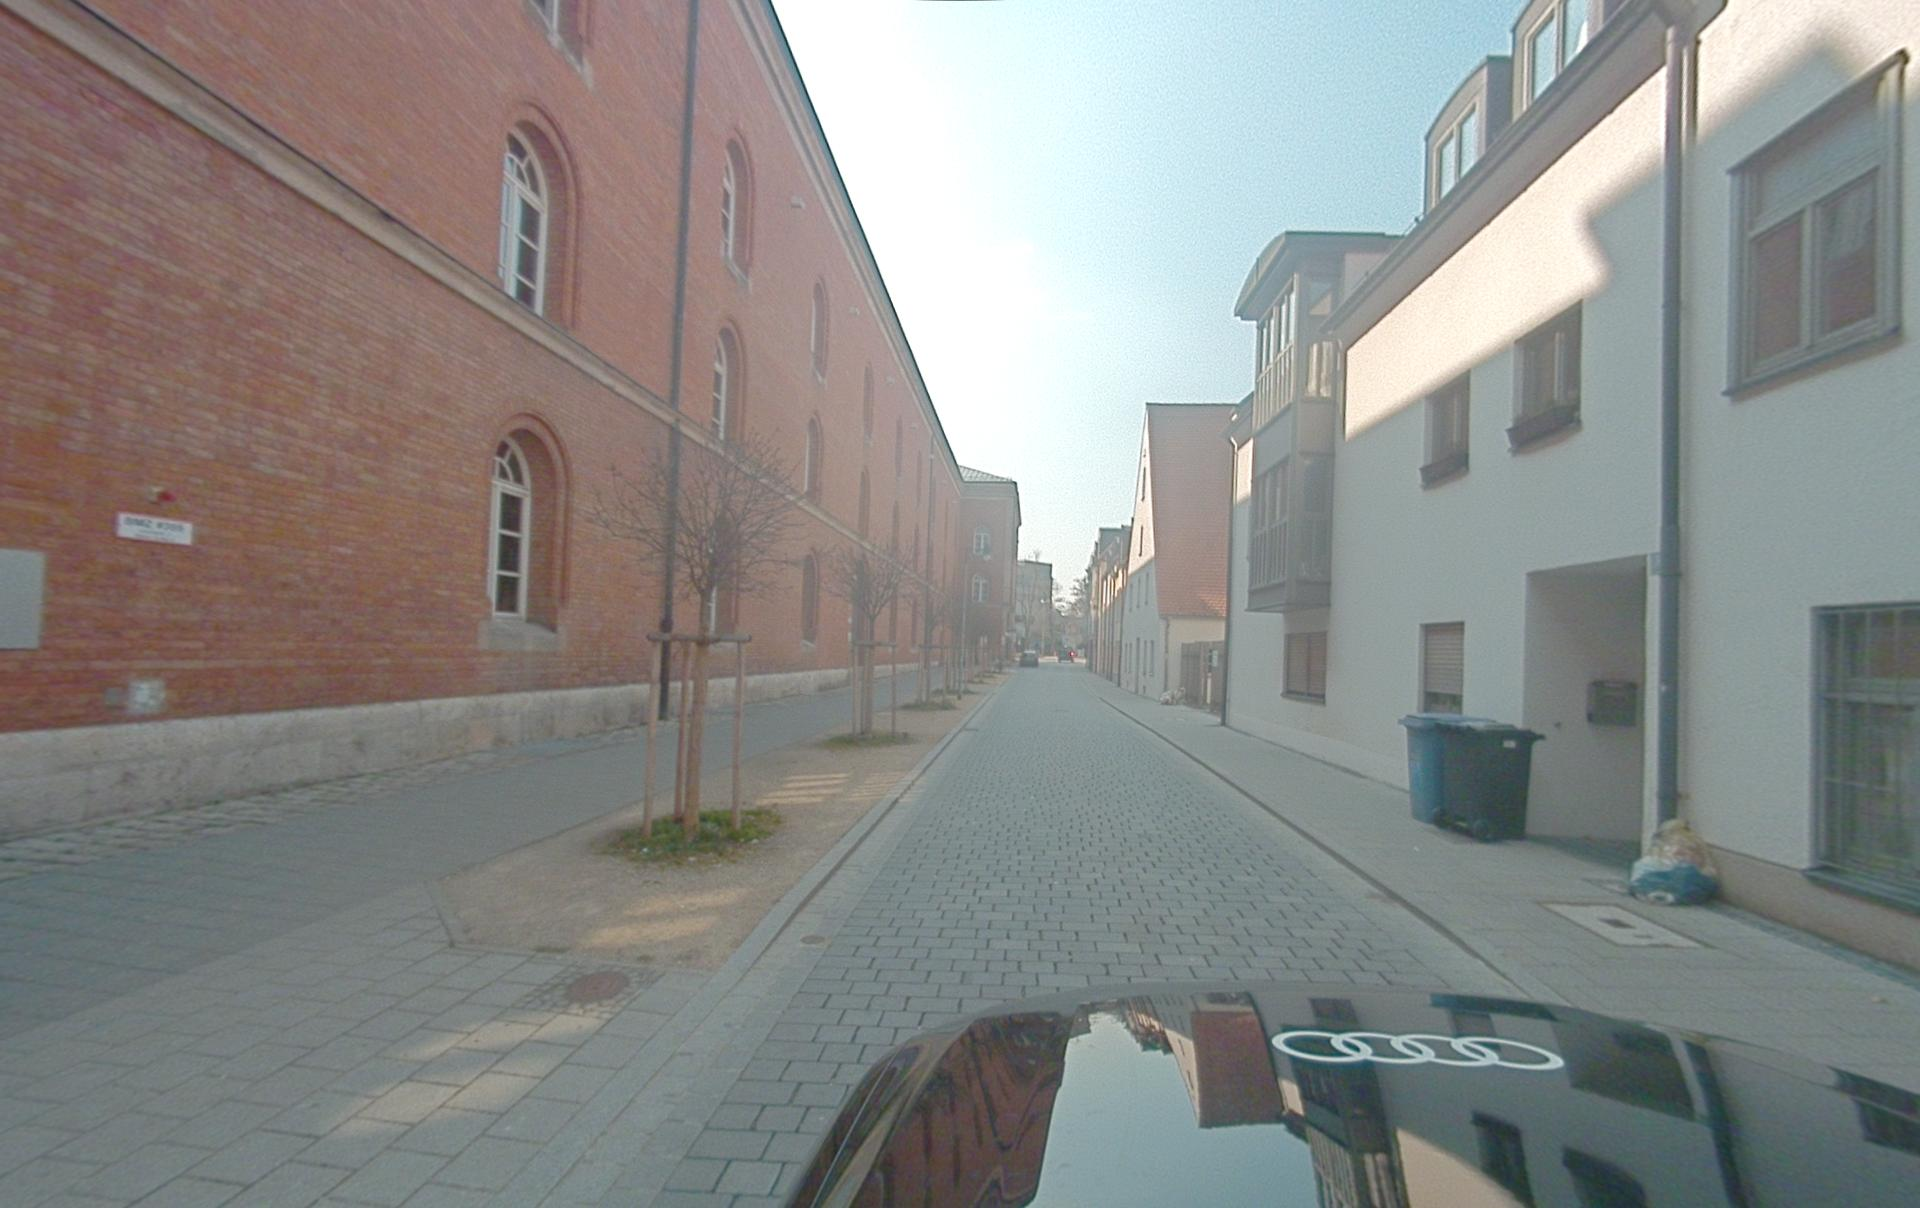car: (786, 984, 1919, 1207), (1020, 650, 1038, 667)
traffic sign: (115, 511, 193, 547)
